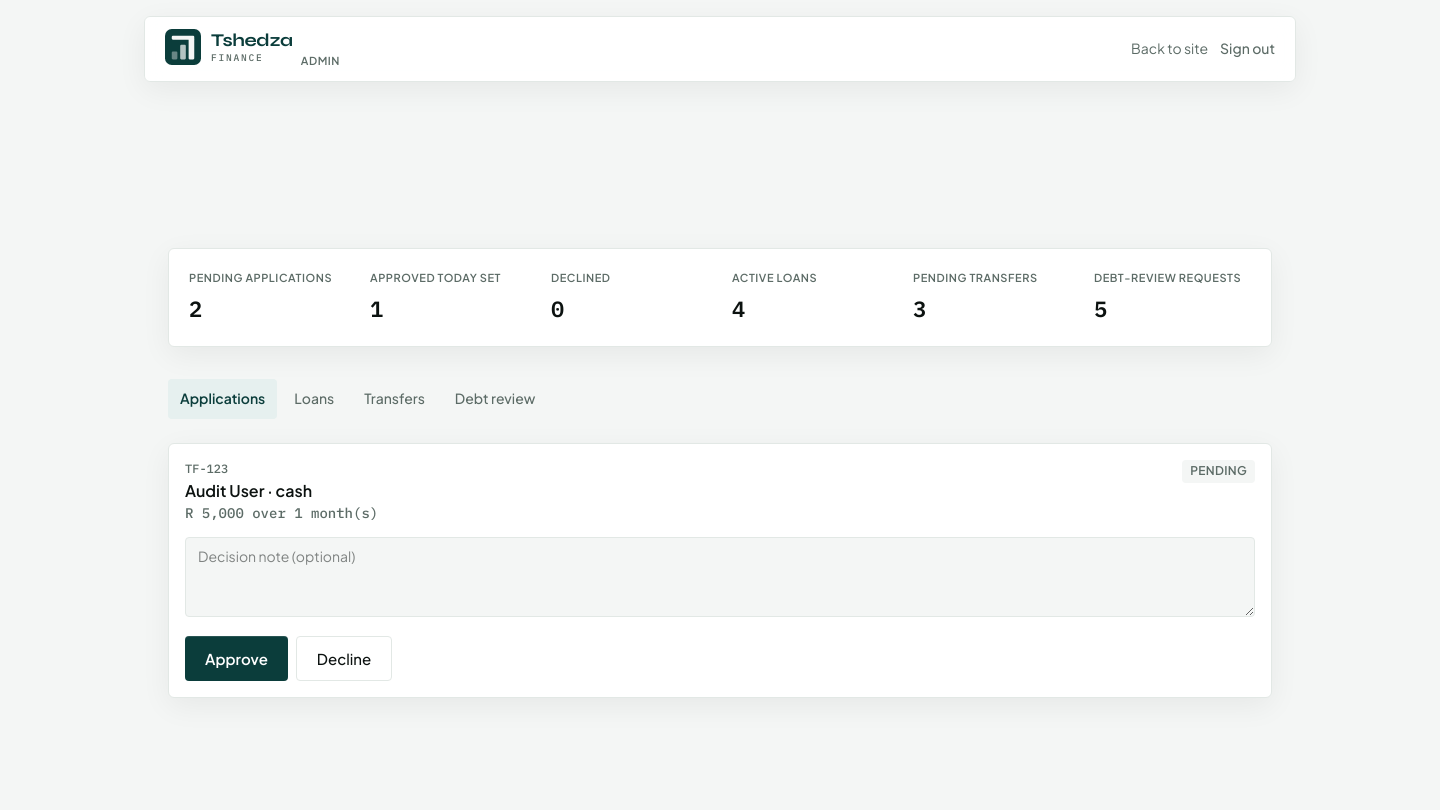
Scenario: AdminPanelPage › renders overview cards and switches tabs
Expected: the text "Pending applications" is shown, top-left (189, 269), bottom-right (346, 286)
Expected: the text "Audit User · cash" is shown, top-left (185, 480), bottom-right (312, 501)
Click the button "Loans". click: click(314, 399)
box: top-left (281, 379), bottom-right (347, 419)
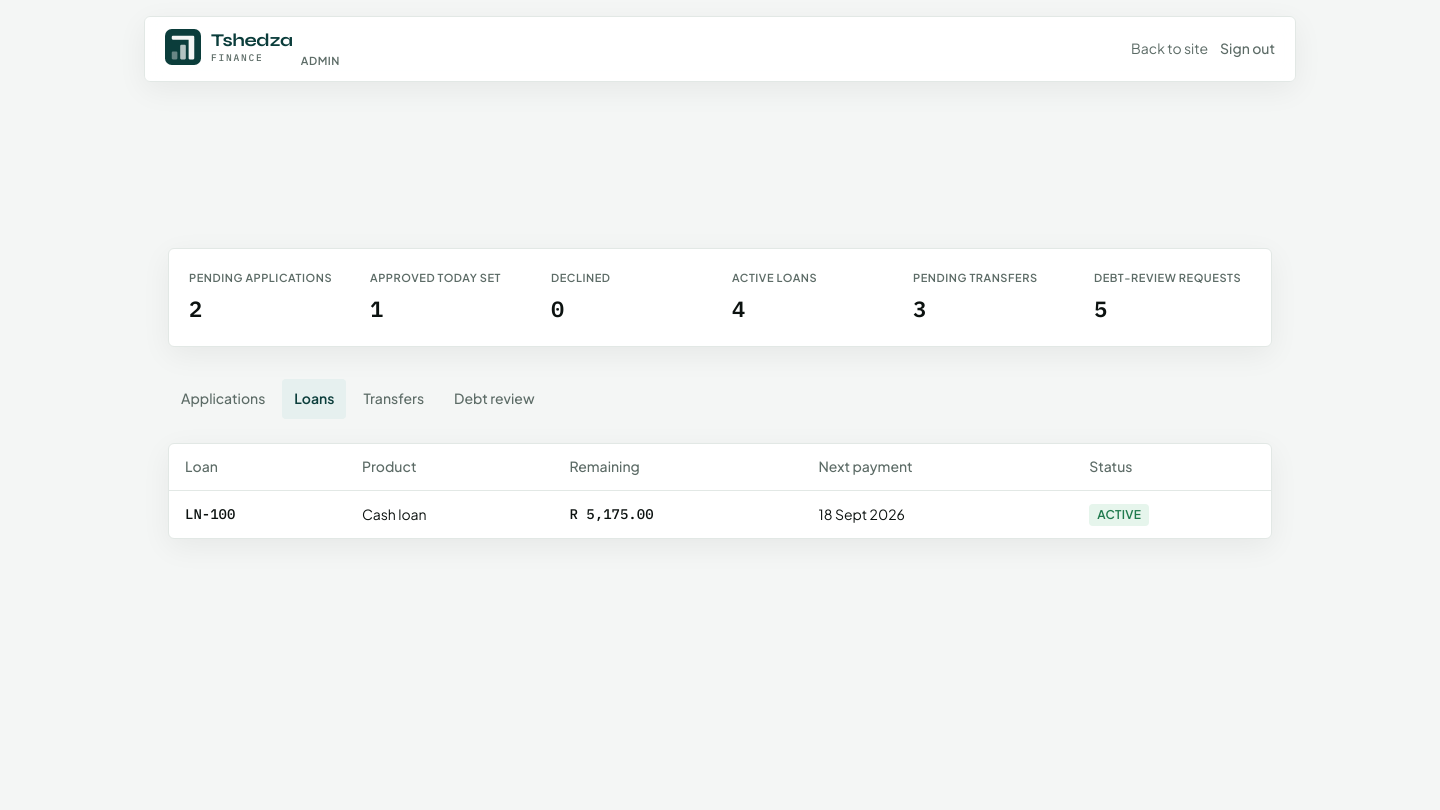
Now the text "LN-100" is shown, box top-left (169, 490), bottom-right (346, 538)
Click the button "Transfers". click: click(394, 399)
box: top-left (350, 379), bottom-right (437, 419)
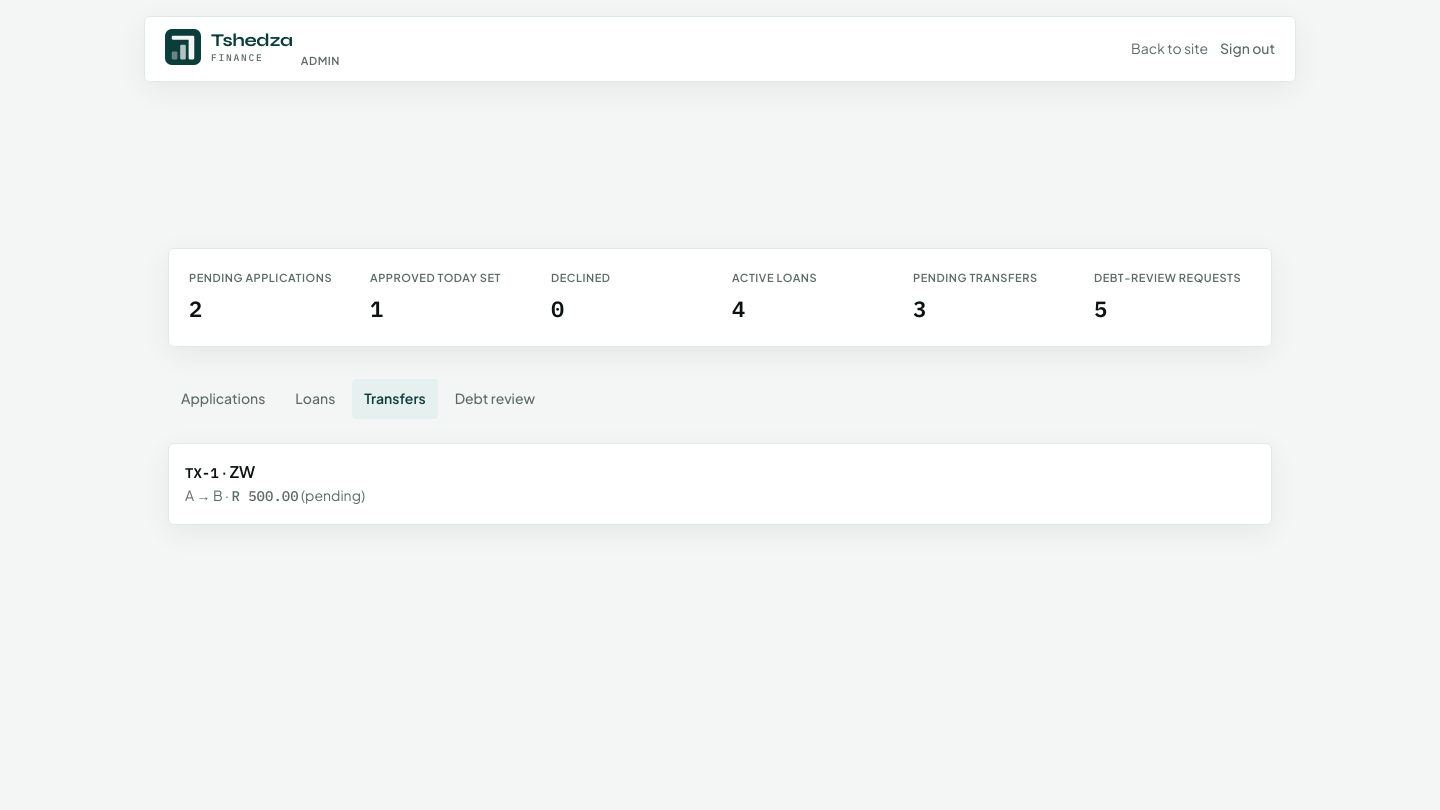
Now the text "TX-1" is shown, box top-left (185, 464), bottom-right (219, 482)
Now the text "A → B · R 500.00 (pending)" is shown, box top-left (185, 485), bottom-right (365, 508)
Click the button "Debt review". click: click(495, 399)
box: top-left (442, 379), bottom-right (548, 419)
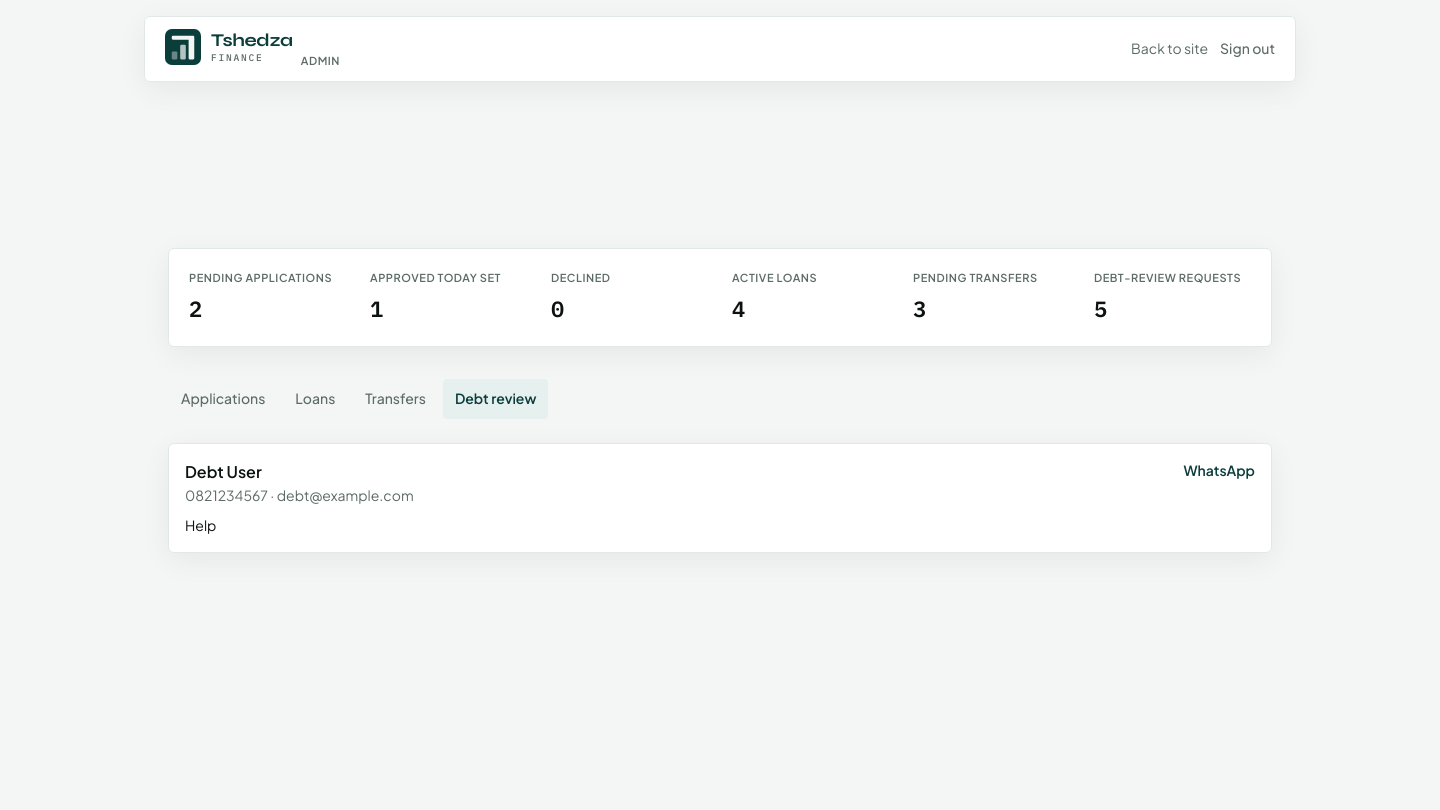
Now the text "Debt User" is shown, box top-left (185, 461), bottom-right (262, 482)
